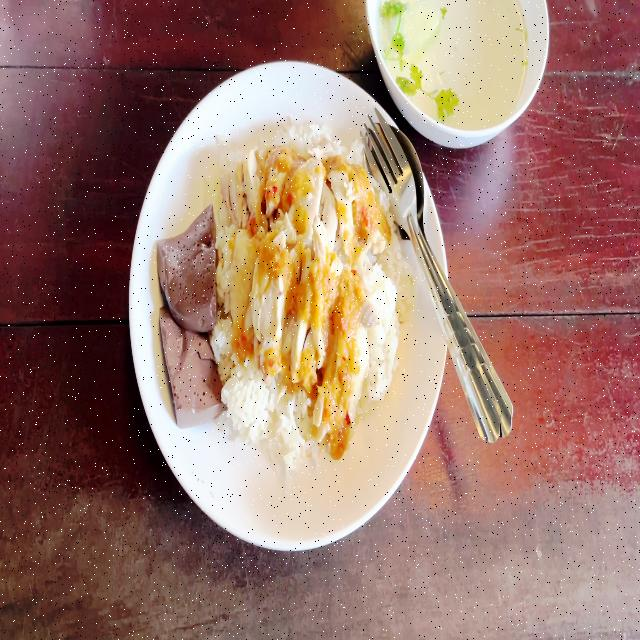boiled_chicken: (229, 157, 365, 372)
boiled_chicken_blood_jelly: (153, 206, 225, 325), (160, 305, 225, 432)
chicken_rice: (162, 133, 404, 471)
